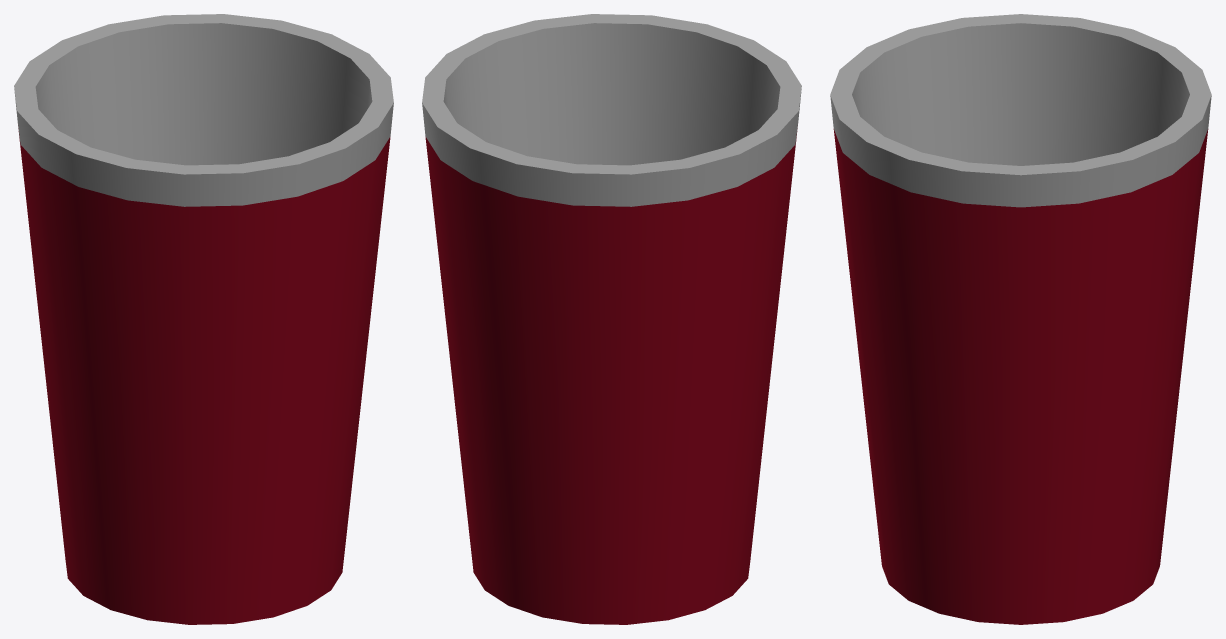
The model's file is Solo.fbx.
The picture shows the model from 3 angles, left to right: view 1: azimuth 30°, elevation 25°; view 2: azimuth 150°, elevation 25°; view 3: azimuth 270°, elevation 25°; orthographic projection.
Parts seen in each view (by area): view 1: Solo; view 2: Solo; view 3: Solo.
Boxes of the visible parts, left/top/right/bottom form: Solo: left=14, top=14, right=393, bottom=624; Solo: left=422, top=14, right=801, bottom=624; Solo: left=830, top=14, right=1211, bottom=624.
Bounding box in the file's own units: 195 × 266 × 195.
